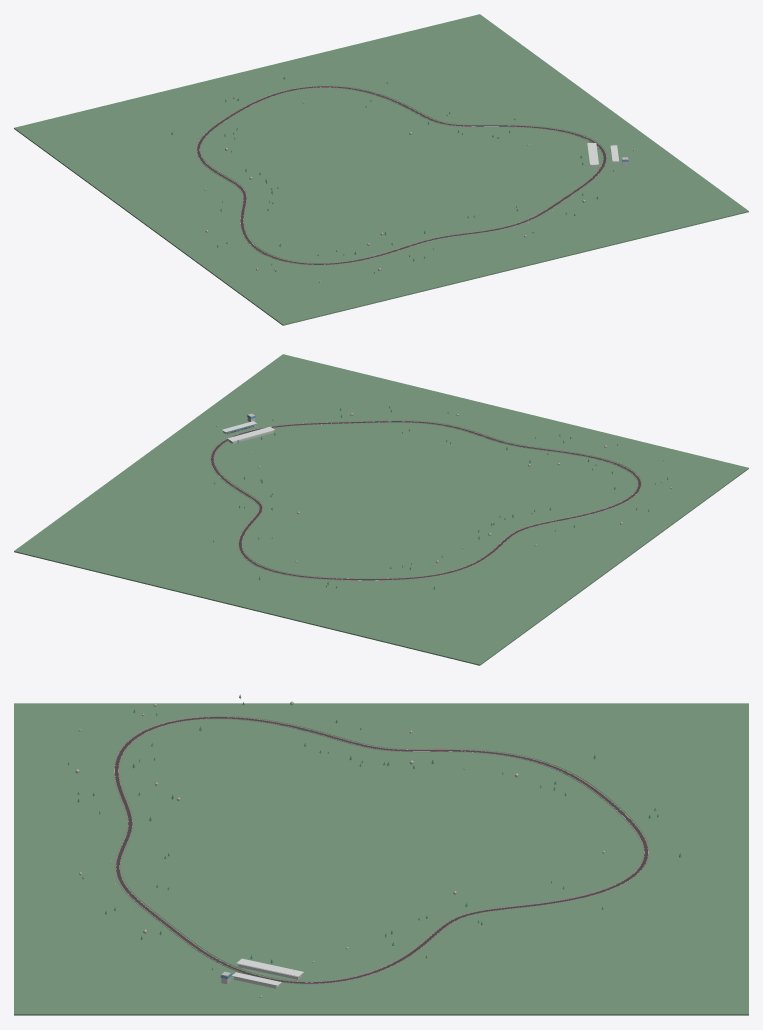
The model's file is sparda.glb.
3 renders of one model, top to bottom at view 1: azimuth 30°, elevation 25°; view 2: azimuth 150°, elevation 25°; view 3: azimuth 270°, elevation 25°, orthographic. The views are drawn at different scales.
Parts seen in each view (by area): view 1: Terreno-sparda, Asfalto-sparda, Proteccion-1, Proteccion--1; view 2: Terreno-sparda, Asfalto-sparda, Proteccion-1, Proteccion--1; view 3: Terreno-sparda, Asfalto-sparda, Proteccion--1, Proteccion-1, Piano-1, Piano--1.
Boxes of the visible parts, x1=… form: Terreno-sparda: x1=14, y1=14, x2=748, y2=325; Asfalto-sparda: x1=197, y1=86, x2=606, y2=264; Proteccion-1: x1=197, y1=85, x2=606, y2=265; Proteccion--1: x1=202, y1=87, x2=600, y2=263; Terreno-sparda: x1=14, y1=354, x2=748, y2=665; Asfalto-sparda: x1=211, y1=421, x2=640, y2=580; Proteccion-1: x1=211, y1=420, x2=640, y2=580; Proteccion--1: x1=216, y1=422, x2=635, y2=578; Terreno-sparda: x1=14, y1=703, x2=748, y2=1015; Asfalto-sparda: x1=114, y1=717, x2=648, y2=983; Proteccion--1: x1=122, y1=719, x2=642, y2=981; Proteccion-1: x1=113, y1=716, x2=648, y2=984; Piano-1: x1=114, y1=716, x2=648, y2=983; Piano--1: x1=118, y1=718, x2=644, y2=981.
Size of the model in its own units: 2630 by 96.41 by 2630.
